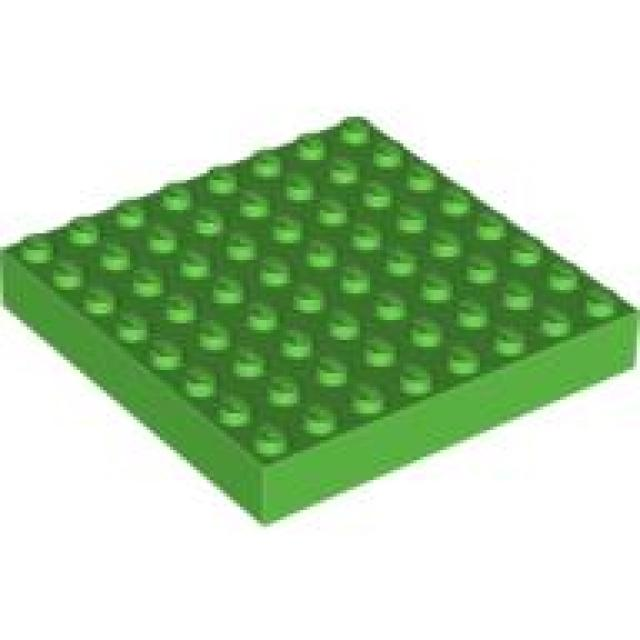Green_Large: (0, 117, 640, 530)
